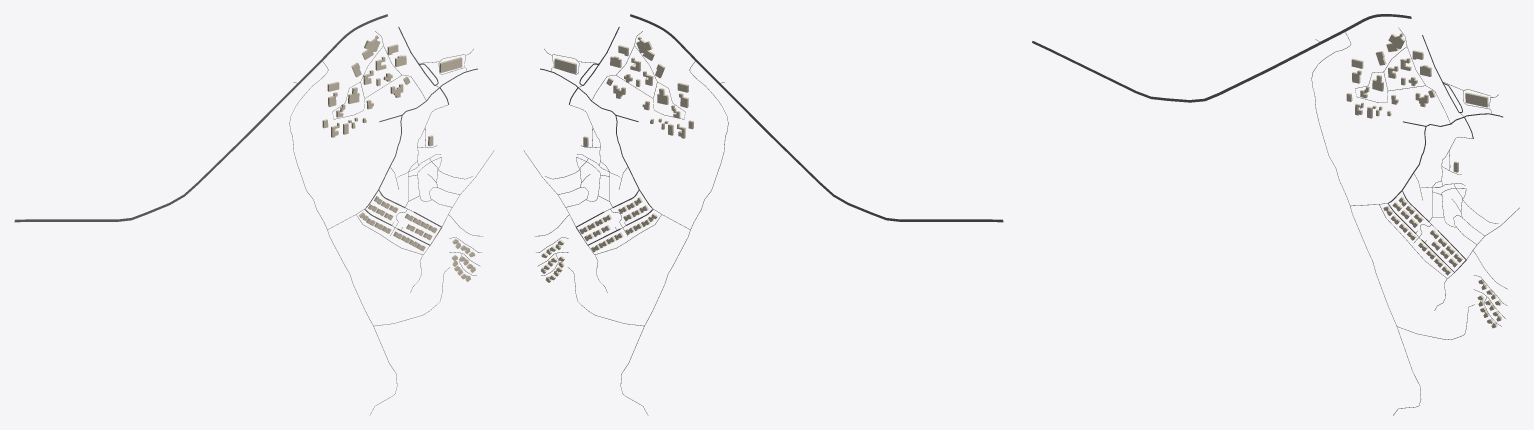
File: historic-palestine-09_31_3509_3259.glb
3 renders of one model, left to right at view 1: azimuth 30°, elevation 25°; view 2: azimuth 150°, elevation 25°; view 3: azimuth 330°, elevation 25°, orthographic.
Parts seen in each view (by area): view 1: Road 6953; view 2: Road 6953; view 3: Road 6953.
Part boxes in pixels (x1,y1,x2,y2): Road 6953: (14, 14, 387, 222); Road 6953: (630, 14, 1003, 222); Road 6953: (1032, 14, 1411, 102).
Bounding box in the file's own units: 1600 × 1266 × 8.7.
